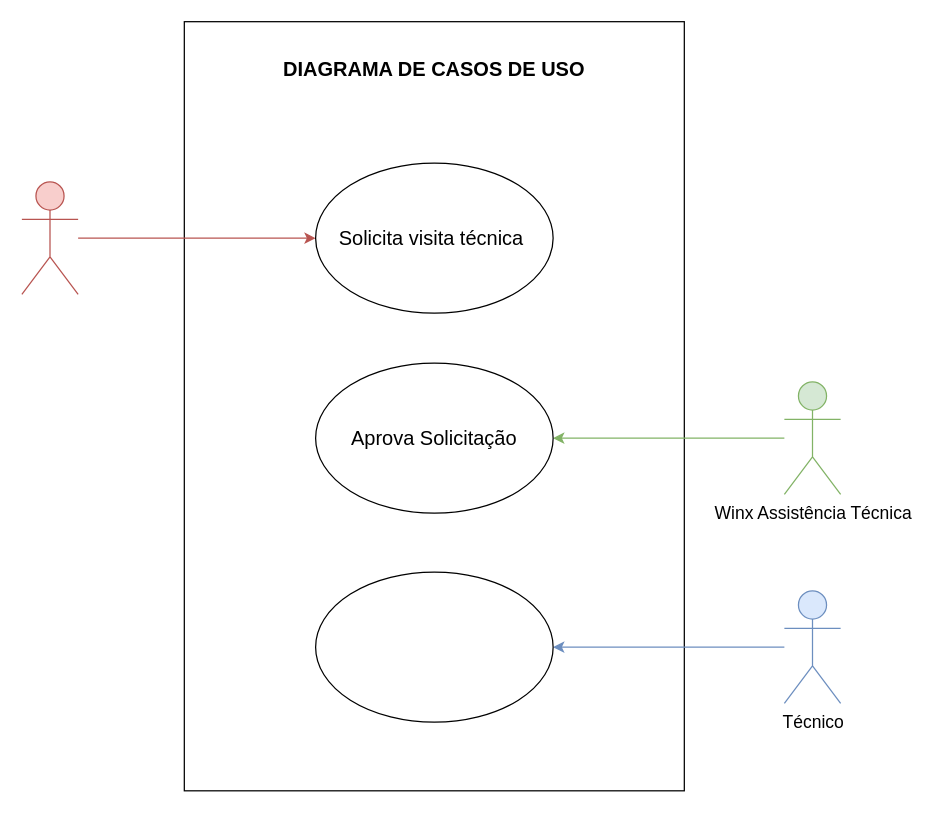
The diagram is 933 pixels wide and 814 high, and some of its shapes have lost their labels. The shapes that lost their labels are listed below. From the top down, each one's centre as x and y in pixels, then its label:
At point 49,237: "Cliente".
At point 433,646: "Aceita Solicitação de Atendimento".
